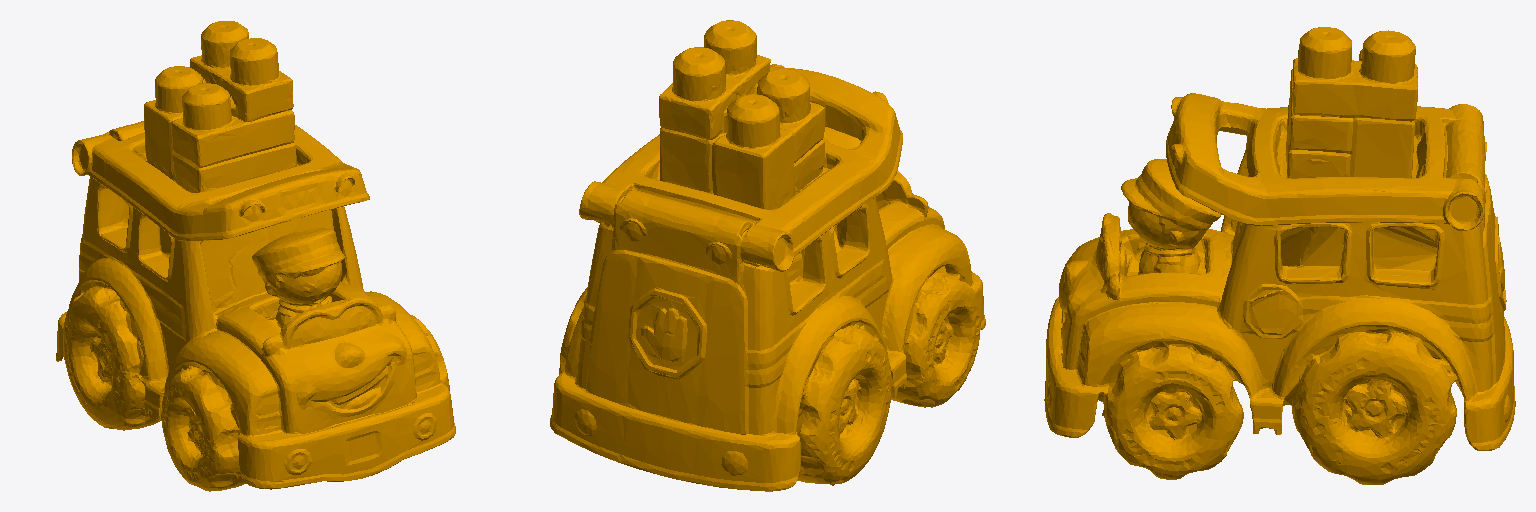
robot.urdf — ze3p8lam:
<?xml version='1.0'?>

<robot name="ze3p8lam">
    <static>false</static>
    <link name="link">
        <inertial>
            <mass value="0.13688981983876808"/>
            <inertia ixx="0.0001789879523292728" ixy="7.852511494709754e-07" ixz="2.040717105167105e-07"
                     iyy="0.00011762539451350475" iyz="-1.9173084781651905e-05" izz="0.00015962124546420485"/>
        </inertial>
        <collision name="collision">
            <geometry>
                <mesh filename="package://miscnet/train/ze3p8lam/collision_model_vhacd.obj"/>
            </geometry>
        </collision>
        <visual name="visual">
            <geometry>
                <mesh filename="package://miscnet/train/ze3p8lam/visual_model.obj"/>
            </geometry>
        </visual>
    </link>
</robot>

--- What the picture shows (computed from the rendered views, not written in the file) ---
3 views of the same robot in one strip: view 1: azimuth 30°, elevation 25°; view 2: azimuth 150°, elevation 25°; view 3: azimuth 270°, elevation 25° (orthographic).
Model ze3p8lam with 1 links and 0 joints (none), rooted at link, posed every joint at zero.
Visible links, largest first — view 1: link; view 2: link; view 3: link.
Link boxes in pixels (left/top/right/bottom): link: left=56, top=21, right=455, bottom=491; link: left=550, top=20, right=985, bottom=491; link: left=1044, top=27, right=1515, bottom=484.
Bounding box of the posed robot: 0.0814 × 0.12 × 0.1152 m (x, y, z).
1 mesh visuals loaded from 1 distinct referenced files (1 OBJ).
